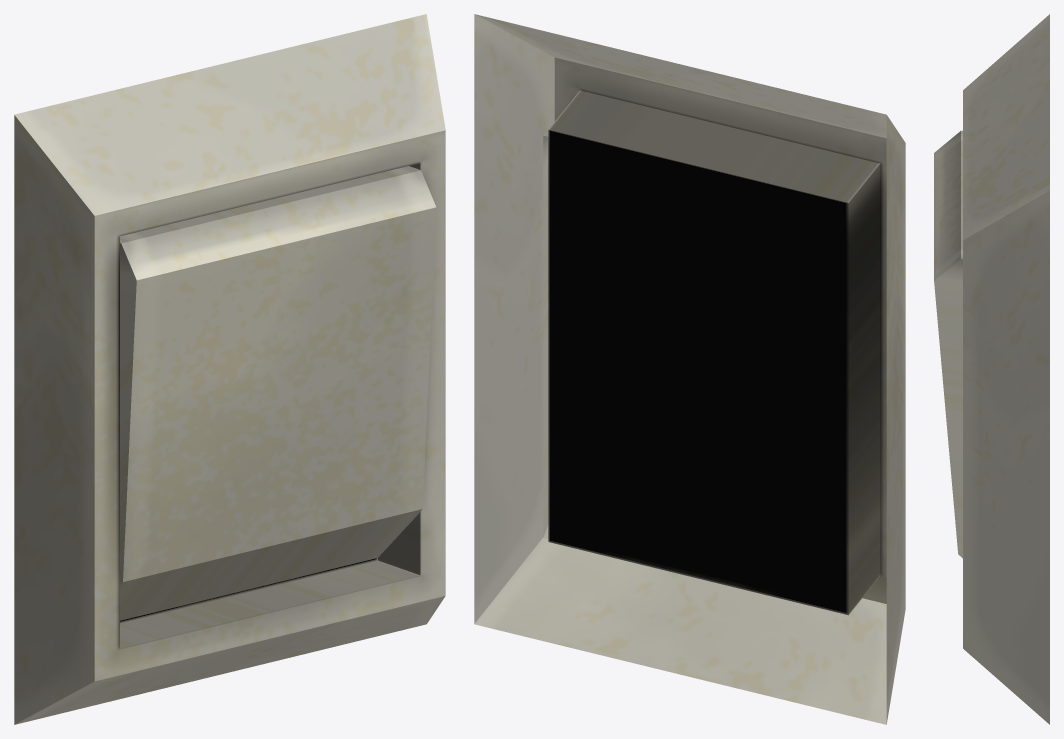
The model's file is light_switch.glb.
3 views of the same model, side by side, from view 1: azimuth 30°, elevation 25°; view 2: azimuth 150°, elevation 25°; view 3: azimuth 270°, elevation 25° (orthographic). The views are drawn at different scales.
Parts seen in each view (by area): view 1: Switch; view 2: Switch; view 3: Switch.
Part boxes in pixels (bbox=[...]): Switch: bbox=[14, 14, 445, 724]; Switch: bbox=[474, 14, 905, 724]; Switch: bbox=[934, 14, 1049, 724].
Size of the model in its own units: 0.2602 by 0.368 by 0.0723.
1 material, 1 textured.
